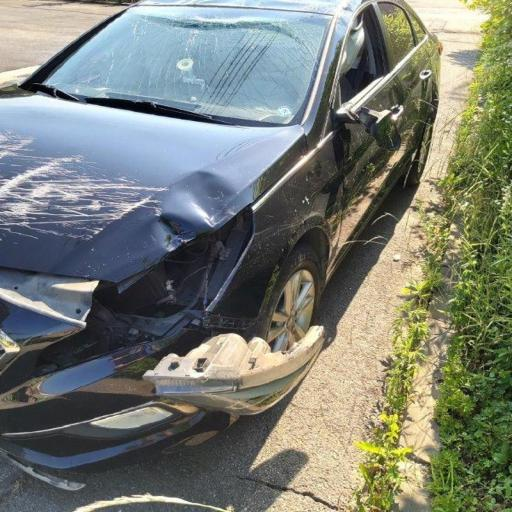broken: (38, 247, 308, 440)
scratch: (0, 124, 178, 292), (98, 3, 309, 129)
